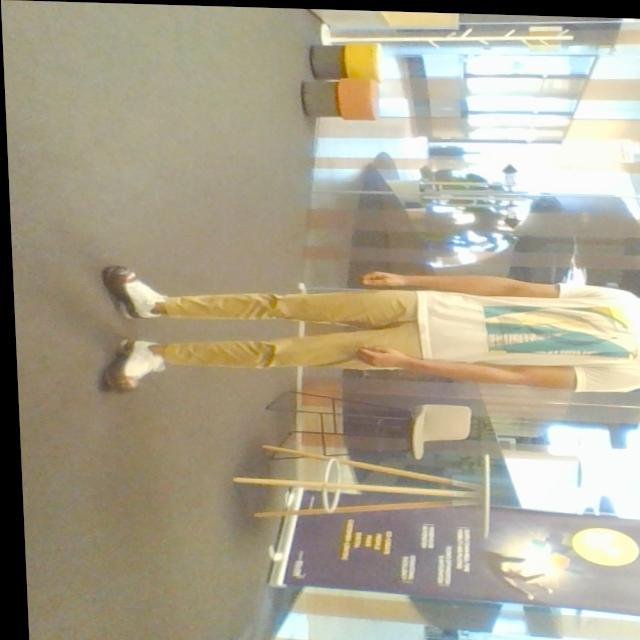shoes: (97, 262, 168, 328), (100, 336, 160, 399)
